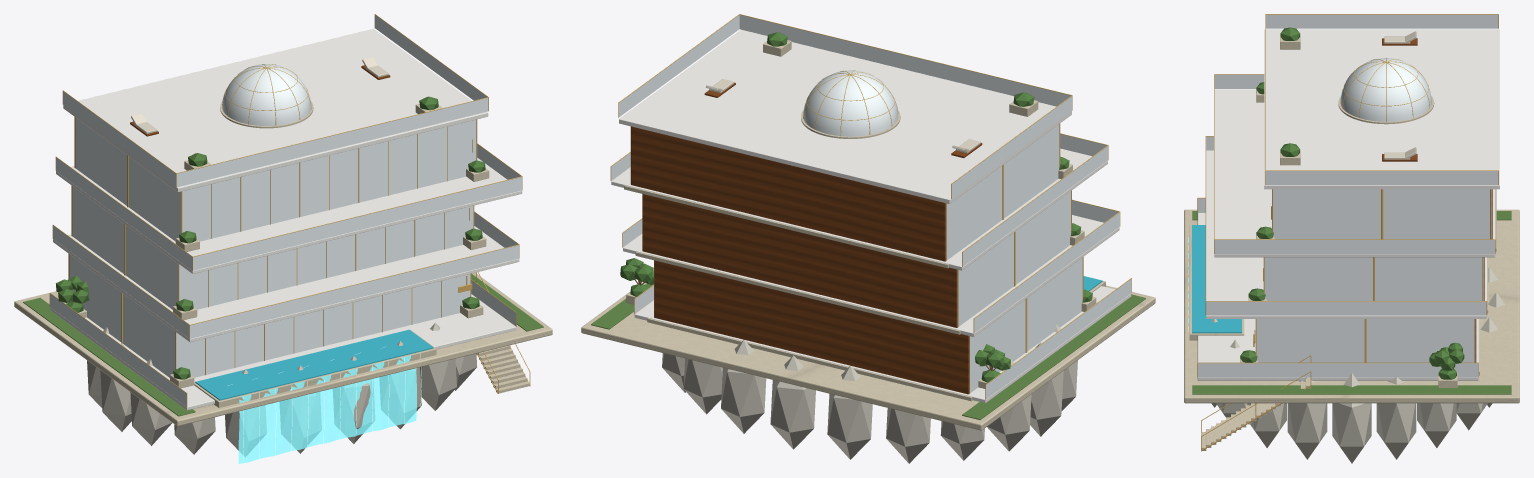
The model's file is House4.fbx.
The picture shows the model from 3 angles, left to right: view 1: azimuth 30°, elevation 25°; view 2: azimuth 150°, elevation 25°; view 3: azimuth 270°, elevation 25°; orthographic projection. The views are drawn at different scales.
Parts seen in each view (by area): view 1: House4, Base; view 2: House4, Base; view 3: House4, Base.
Boxes of the visible parts, box(x1,y1,x2,y2) form: House4: box(23, 14, 543, 463); Base: box(14, 272, 552, 426); House4: box(591, 14, 1145, 463); Base: box(581, 282, 1155, 430); House4: box(1188, 14, 1511, 463); Base: box(1184, 209, 1519, 403).
Bounding box in the file's own units: 6500 × 5167 × 4900.
19 materials, 3 textured.
